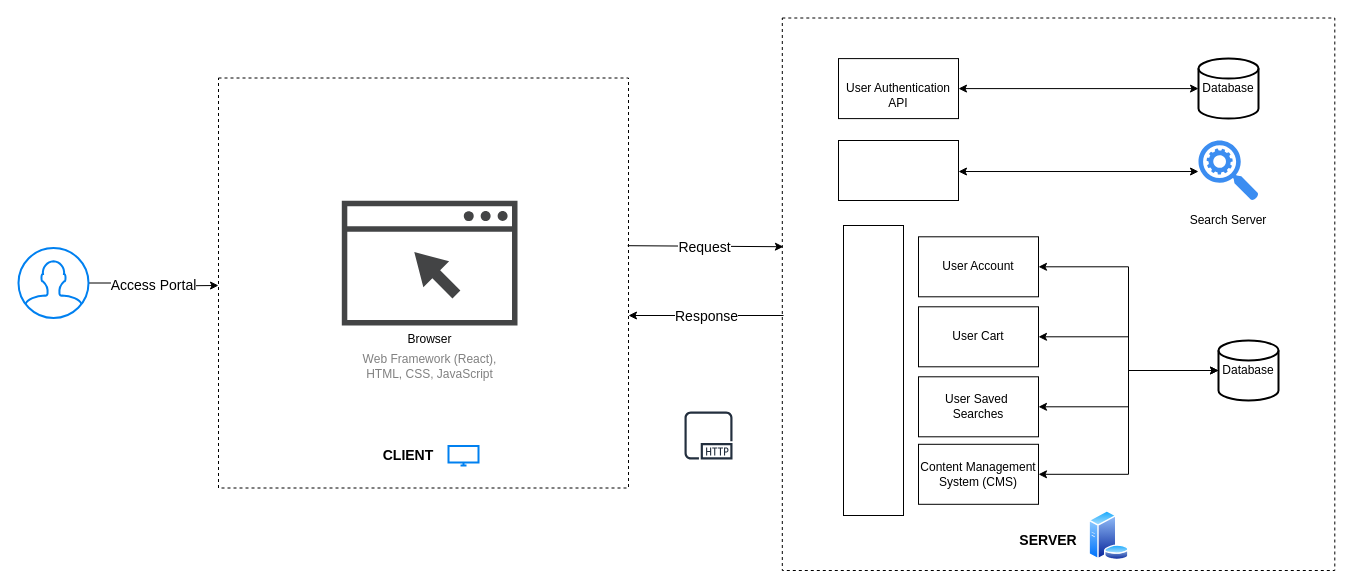
The diagram is 1352 pixels wide and 588 high, and some of its shapes have lost their labels. The shapes that lost their labels are listed below. From the top down, each one's centre as x and y in pixels, then its label:
point (898, 170): Search API
point (53, 282): Users
point (873, 370): Internal APIs
point (708, 435): HTTP protocol
